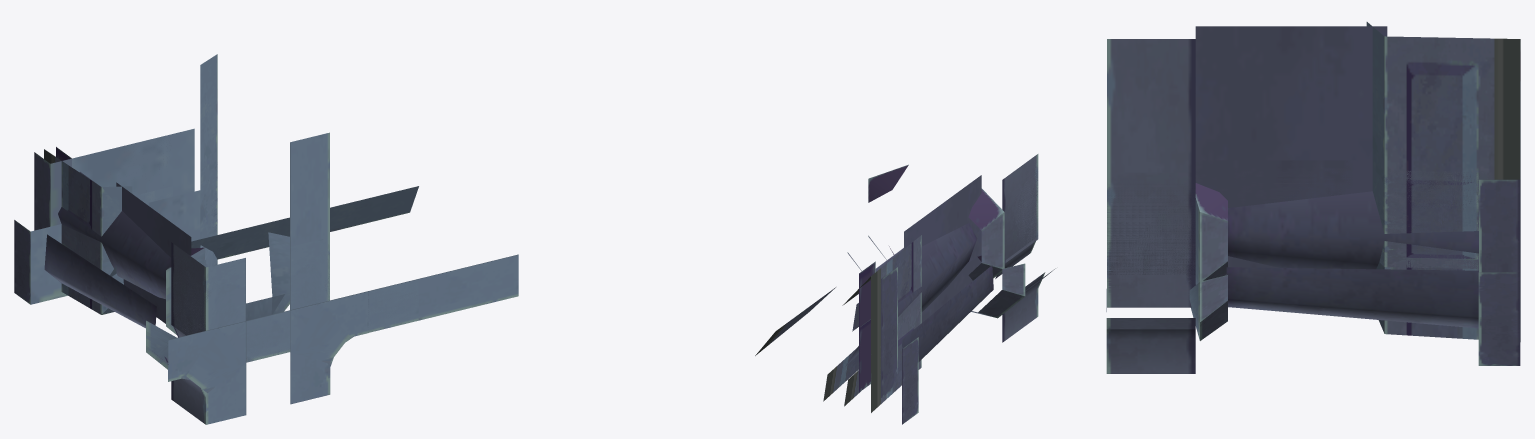
Rendered from wall_blue.glb.
3 views of the same model, side by side, from view 1: azimuth 30°, elevation 25°; view 2: azimuth 150°, elevation 25°; view 3: azimuth 270°, elevation 25° (orthographic). The views are drawn at different scales.
Parts seen in each view (by area): view 1: rsrc.world.tileset.city_base.wall_buildings.wall_blue-Varian (×15); view 2: rsrc.world.tileset.city_base.wall_buildings.wall_blue-Varian (×7); view 3: rsrc.world.tileset.city_base.wall_buildings.wall_blue-Varian (×6).
Boxes of the visible parts, x1=… form: rsrc.world.tileset.city_base.wall_buildings.wall_blue-Varian (×15): x1=14, y1=54, x2=518, y2=424; rsrc.world.tileset.city_base.wall_buildings.wall_blue-Varian (×7): x1=755, y1=154, x2=1055, y2=424; rsrc.world.tileset.city_base.wall_buildings.wall_blue-Varian (×6): x1=1106, y1=22, x2=1520, y2=373.
Size of the model in its own units: 3.5 by 2.5 by 2.81.
Materials: 2 (1 with a texture image).
